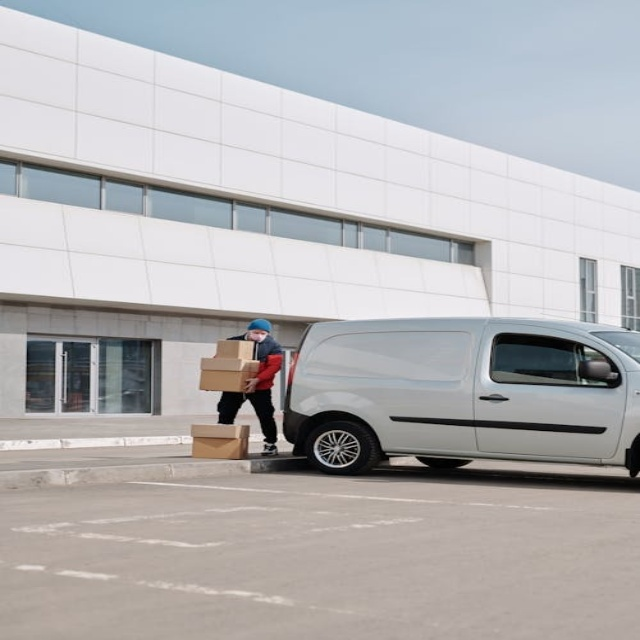Mascara: (250, 333, 267, 342)
Sin_guantes: (244, 378, 260, 392)
